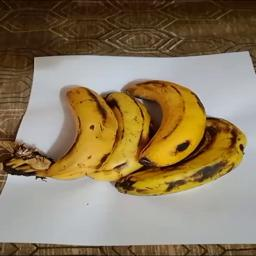Banana Semifresh: (39, 71, 122, 180), (129, 78, 205, 164), (102, 78, 152, 182)
